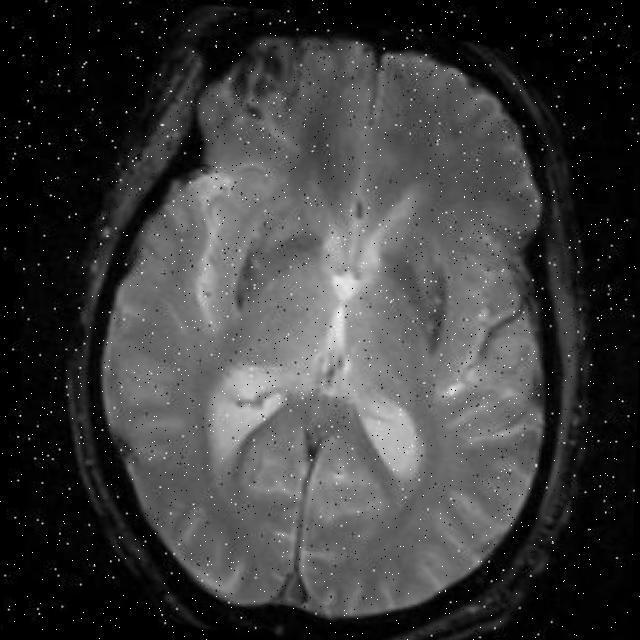MCI: (215, 22, 314, 124), (215, 204, 318, 298), (374, 238, 446, 348)
